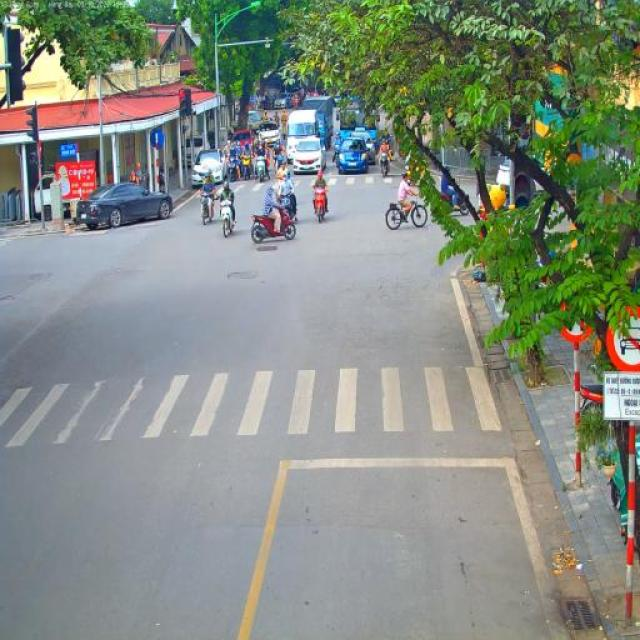bus: (534, 64, 575, 176)
car: (76, 182, 173, 230), (292, 135, 328, 175), (190, 149, 224, 190), (336, 136, 369, 176), (351, 130, 377, 165), (258, 120, 281, 150), (272, 92, 296, 109), (234, 130, 252, 146)
motorcycle: (249, 204, 297, 243), (439, 186, 471, 216), (218, 198, 236, 238), (199, 190, 215, 226), (277, 190, 295, 222), (312, 186, 326, 224), (378, 151, 392, 178), (255, 154, 267, 183), (228, 155, 241, 181), (331, 142, 342, 168), (240, 154, 251, 180), (274, 151, 286, 173), (386, 144, 396, 160), (251, 153, 257, 178), (224, 152, 230, 173)
truck: (286, 108, 326, 164), (301, 96, 335, 149), (334, 109, 377, 150), (248, 111, 262, 133)
